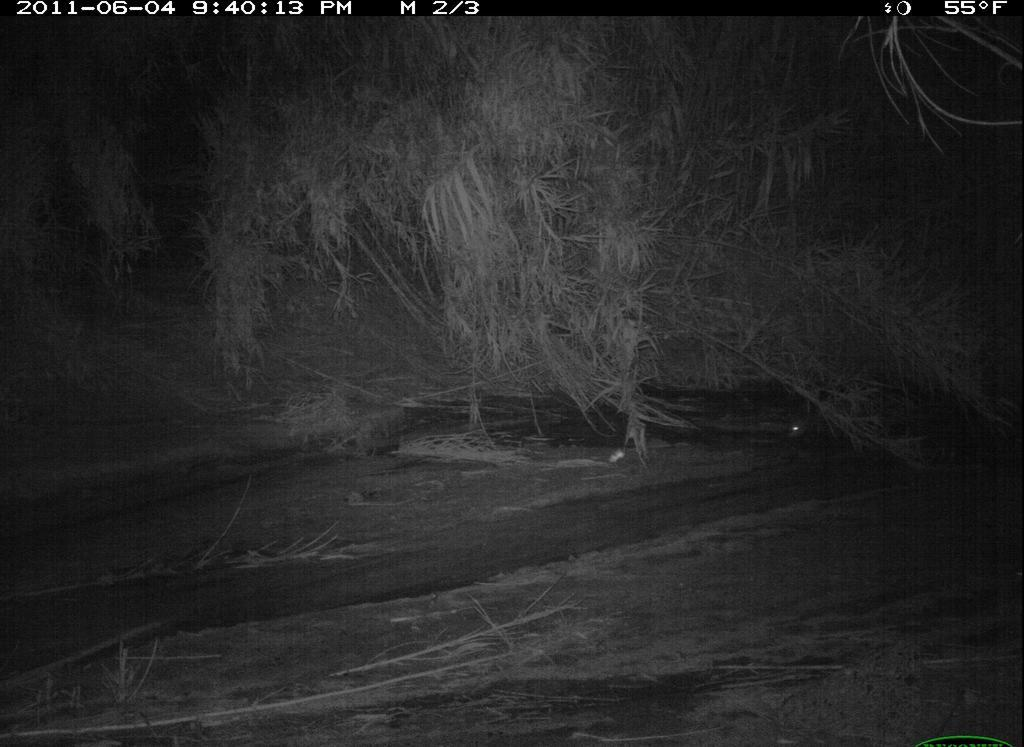opossum: (753, 378, 865, 451)
